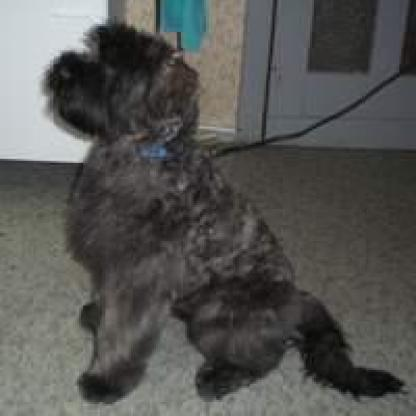Bouvier_des_Flandres: (31, 12, 410, 404)
